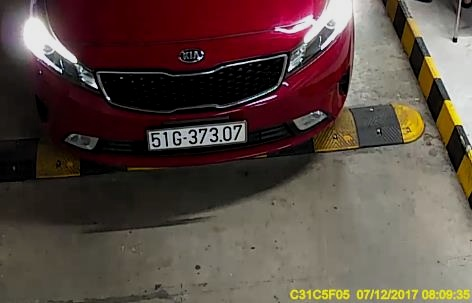plate: (142, 120, 252, 151)
